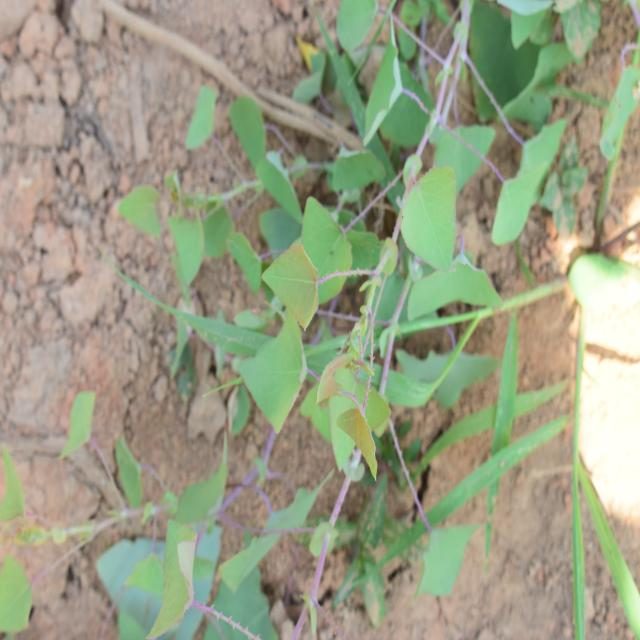Asiatic_Smartweed: (237, 184, 424, 482), (382, 78, 569, 274), (142, 504, 231, 633)
